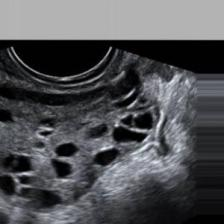pcos: (0, 67, 160, 206)
